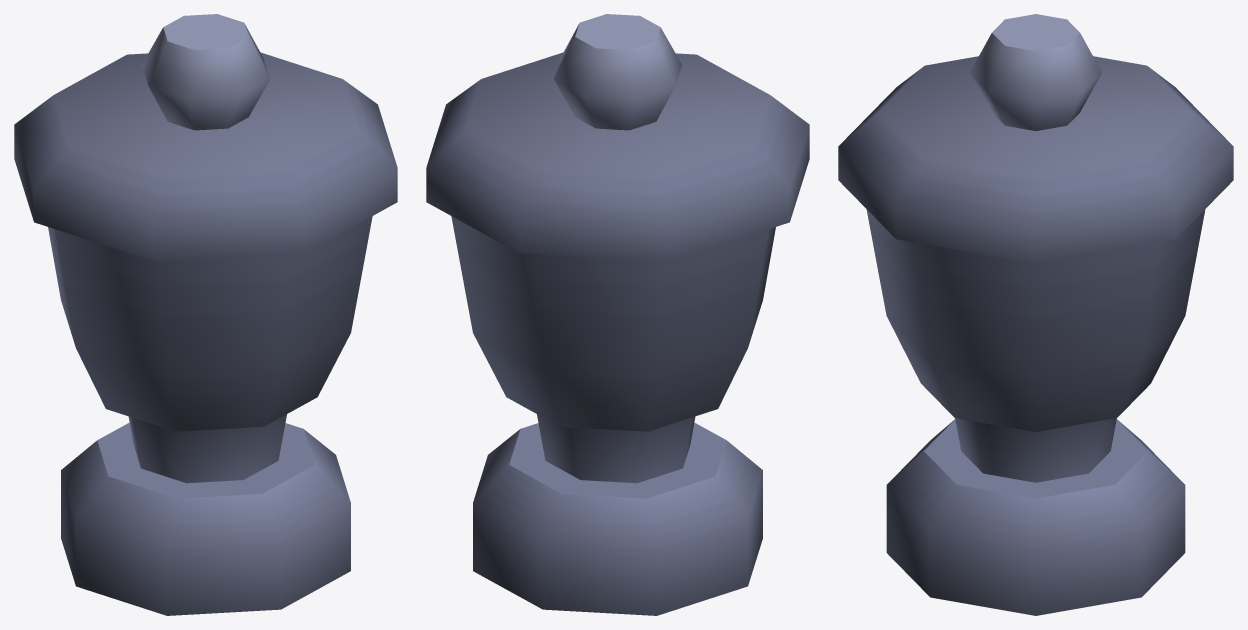
The model's file is grave.urn_round.glb.
3 renders of one model, left to right at view 1: azimuth 30°, elevation 25°; view 2: azimuth 150°, elevation 25°; view 3: azimuth 270°, elevation 25°, orthographic.
Parts seen in each view (by area): view 1: urn-round, lid; view 2: urn-round, lid; view 3: urn-round, lid.
Boxes of the visible parts, left/top/right/bottom form: urn-round: left=48, top=216, right=372, bottom=615; lid: left=14, top=14, right=397, bottom=261; urn-round: left=451, top=216, right=775, bottom=615; lid: left=426, top=14, right=809, bottom=261; urn-round: left=866, top=209, right=1205, bottom=615; lid: left=838, top=14, right=1233, bottom=263.
Bounding box in the file's own units: 0.284 × 0.4124 × 0.284.
Materials: 1 (1 with a texture image).
